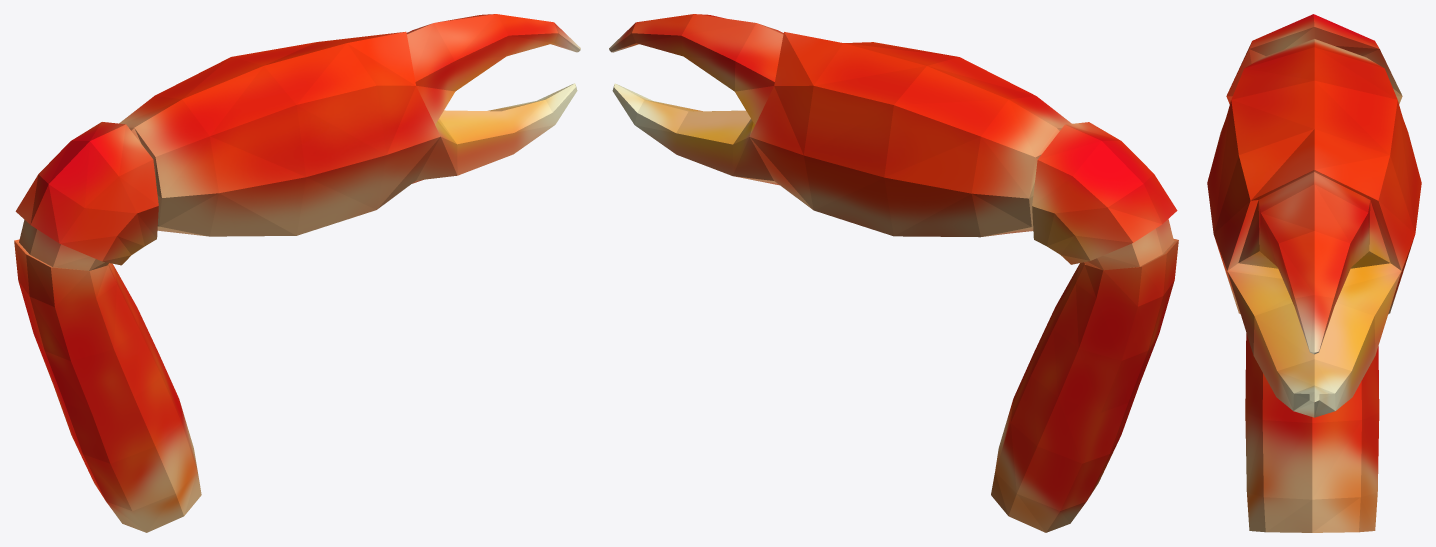
3 views of the same model, side by side, from view 1: azimuth 30°, elevation 25°; view 2: azimuth 150°, elevation 25°; view 3: azimuth 270°, elevation 25° (orthographic). The views are drawn at different scales.
Parts seen in each view (by area): view 1: Node; view 2: Node; view 3: Node.
Boxes of the visible parts, bbox=[...] form: Node: bbox=[14, 14, 580, 532]; Node: bbox=[609, 14, 1178, 532]; Node: bbox=[1207, 14, 1421, 532].
Bounding box in the file's own units: 3.51 × 2.56 × 0.9232.
1 material, 1 textured.
